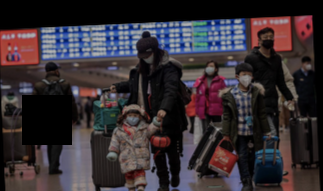with_mask: (260, 33, 275, 49), (237, 71, 252, 87), (141, 51, 154, 65), (125, 112, 139, 125), (205, 64, 215, 76), (302, 60, 312, 71)
